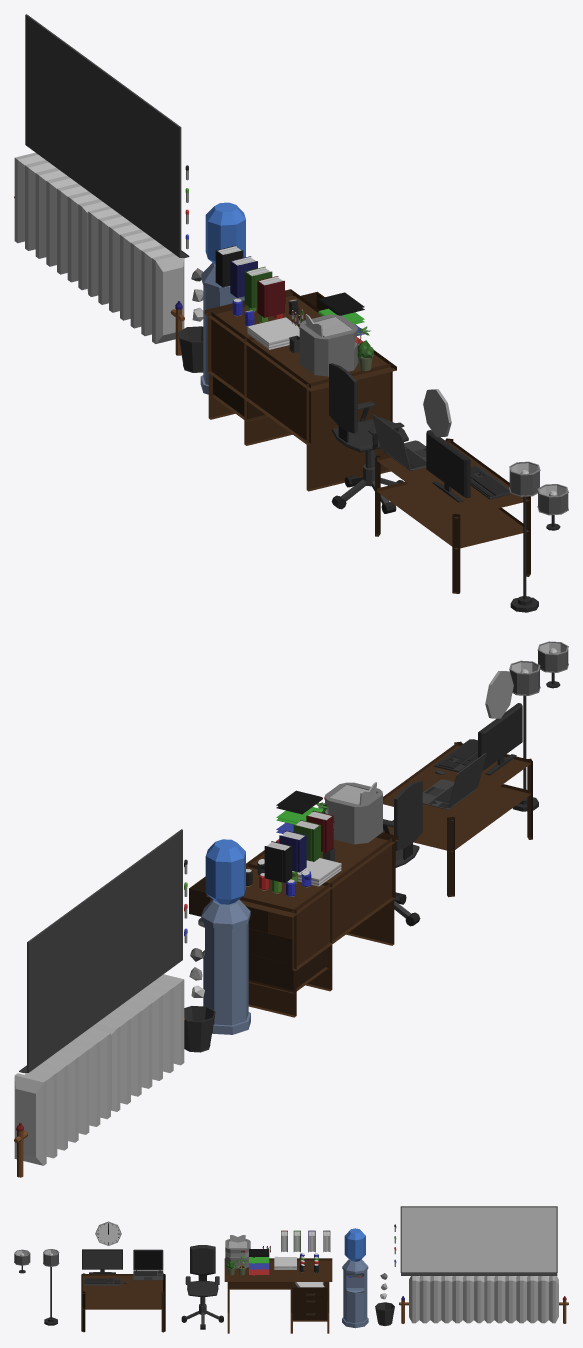
The model's file is Office Props.fbx.
3 renders of one model, top to bottom at view 1: azimuth 30°, elevation 25°; view 2: azimuth 150°, elevation 25°; view 3: azimuth 270°, elevation 25°, orthographic. The views are drawn at different scales.
Visible parts, largest first — view 1: Plane.046, Cube.005, Plane.014, Plane.010, Plane.025, Plane.013, Plane.024, Cube.004, Plane.030, Cylinder.006, Plane.003, Cylinder.005 (+13 smaller); view 2: Plane.046, Cube.005, Plane.014, Cylinder.005, Plane.013, Plane.025, Plane.024, Cube.004, Cylinder.006, Plane.012, Plane.030, Cube.002 (+15 smaller); view 3: Plane.046, Cube.005, Cylinder.005, Plane.013, Plane.025, Plane.024, Plane.030, Plane.003, Cube, Plane.081, Cylinder.006, Cube.002 (+15 smaller).
Boxes of the visible parts, x1=… form: Plane.046: x1=25, y1=14, x2=181, y2=257; Cube.005: x1=14, y1=152, x2=184, y2=343; Plane.014: x1=207, y1=312, x2=310, y2=444; Plane.010: x1=306, y1=363, x2=392, y2=491; Plane.025: x1=377, y1=481, x2=529, y2=549; Plane.013: x1=204, y1=289, x2=396, y2=391; Plane.024: x1=377, y1=440, x2=529, y2=518; Cube.004: x1=299, y1=314, x2=357, y2=376; Plane.030: x1=426, y1=430, x2=470, y2=498; Cylinder.006: x1=205, y1=202, x2=245, y2=264; Plane.003: x1=329, y1=363, x2=357, y2=433; Cylinder.005: x1=200, y1=262, x2=244, y2=394; Plane.046: x1=27, y1=829, x2=182, y2=1072; Cube.005: x1=14, y1=974, x2=184, y2=1165; Plane.014: x1=292, y1=838, x2=395, y2=970; Cylinder.005: x1=201, y1=899, x2=250, y2=1034; Plane.013: x1=206, y1=832, x2=398, y2=917; Plane.025: x1=383, y1=784, x2=531, y2=851; Plane.024: x1=383, y1=742, x2=531, y2=820; Cube.004: x1=325, y1=782, x2=382, y2=844; Cylinder.006: x1=205, y1=839, x2=245, y2=904; Plane.012: x1=210, y1=897, x2=296, y2=1017; Plane.030: x1=478, y1=703, x2=522, y2=770; Cube.002: x1=248, y1=948, x2=327, y2=990; Plane.046: x1=400, y1=1206, x2=557, y2=1272; Cube.005: x1=409, y1=1276, x2=558, y2=1323; Cylinder.005: x1=342, y1=1259, x2=368, y2=1328; Plane.013: x1=224, y1=1258, x2=332, y2=1281; Plane.025: x1=82, y1=1294, x2=162, y2=1309; Plane.024: x1=82, y1=1274, x2=162, y2=1293; Plane.030: x1=82, y1=1249, x2=122, y2=1269; Plane.003: x1=190, y1=1245, x2=215, y2=1275; Cube: x1=292, y1=1282, x2=327, y2=1300; Plane.081: x1=133, y1=1249, x2=163, y2=1270; Cylinder.006: x1=344, y1=1228, x2=365, y2=1261; Cube.002: x1=292, y1=1307, x2=327, y2=1320.
Bounding box in the file's own units: 303 × 598 × 2581.
